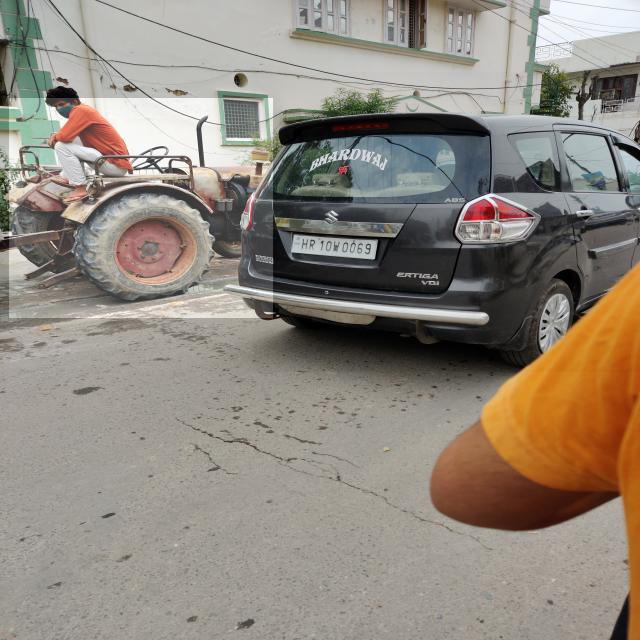Bike: (9, 98, 273, 318)
Car: (252, 72, 640, 372)
